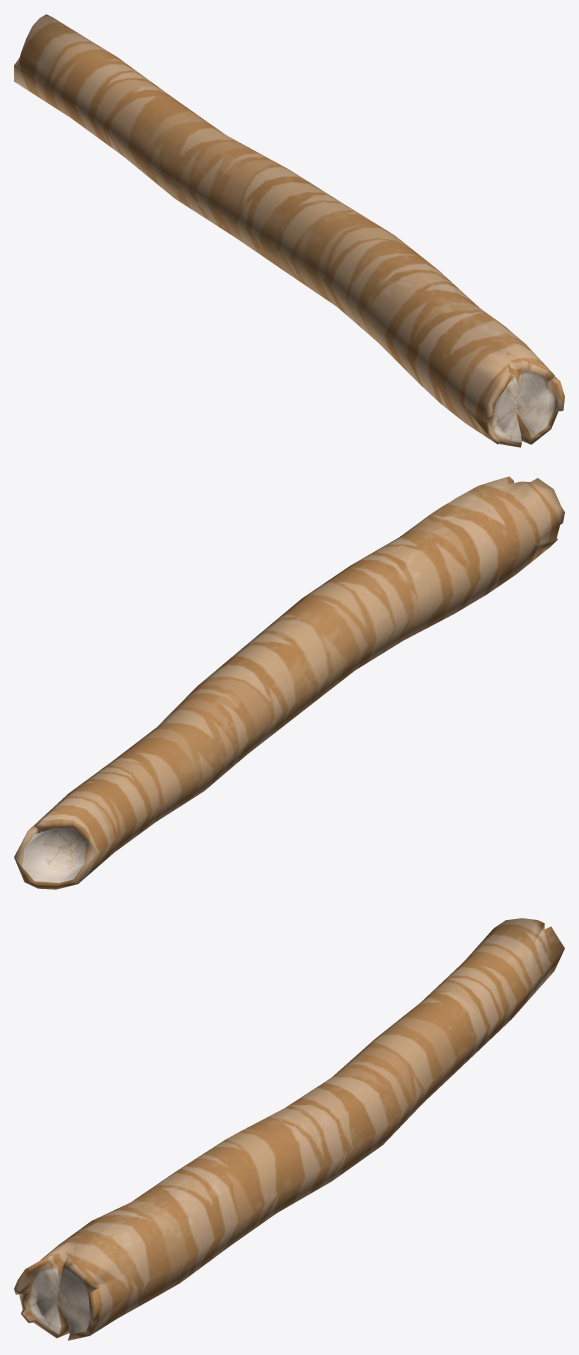
File: P_CoconutPalmFallen02.obj
3 renders of one model, top to bottom at view 1: azimuth 30°, elevation 25°; view 2: azimuth 150°, elevation 25°; view 3: azimuth 330°, elevation 25°, orthographic. The views are drawn at different scales.
Bounding box in the file's own units: 0.9485 × 0.8281 × 8.11.
